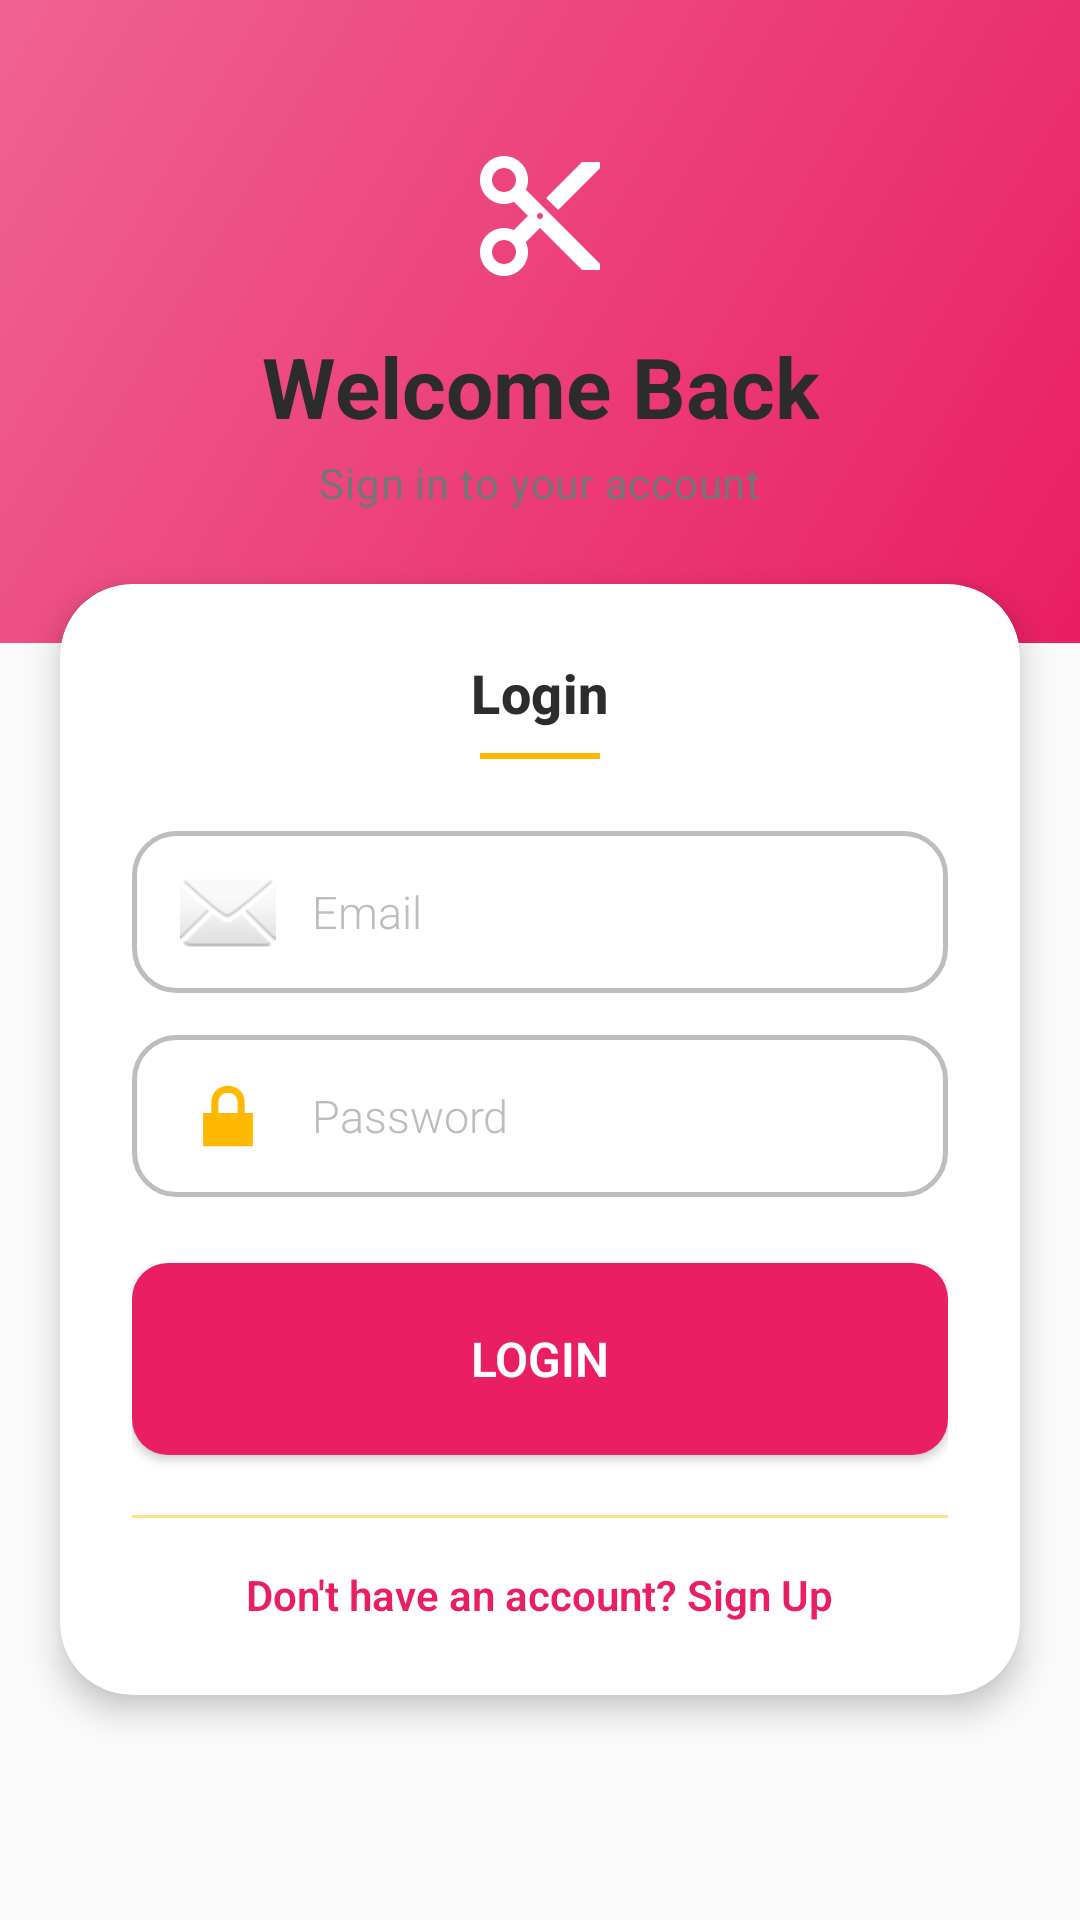

Named icons in this screenshot (1080 × 1920) and their bounding boxes, (x1, y1, x2, y2):
Salon icon: (480, 156, 600, 276)
